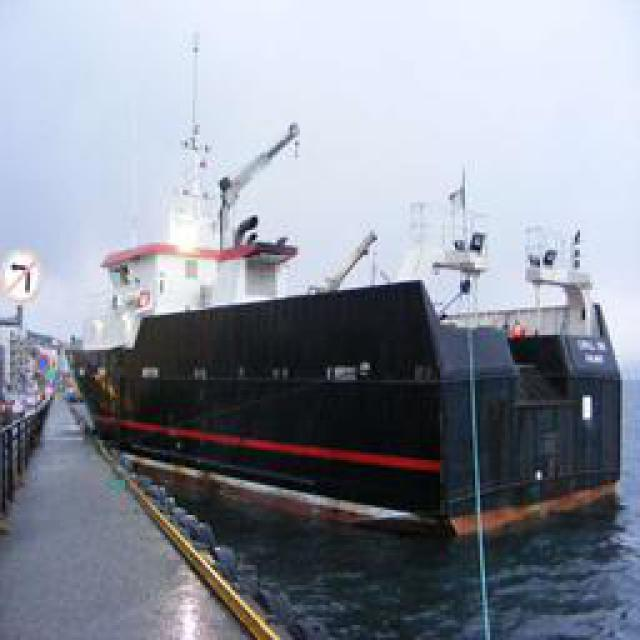Ship: (46, 194, 626, 587)
